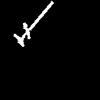double_crochet: (14, 1, 52, 46)
